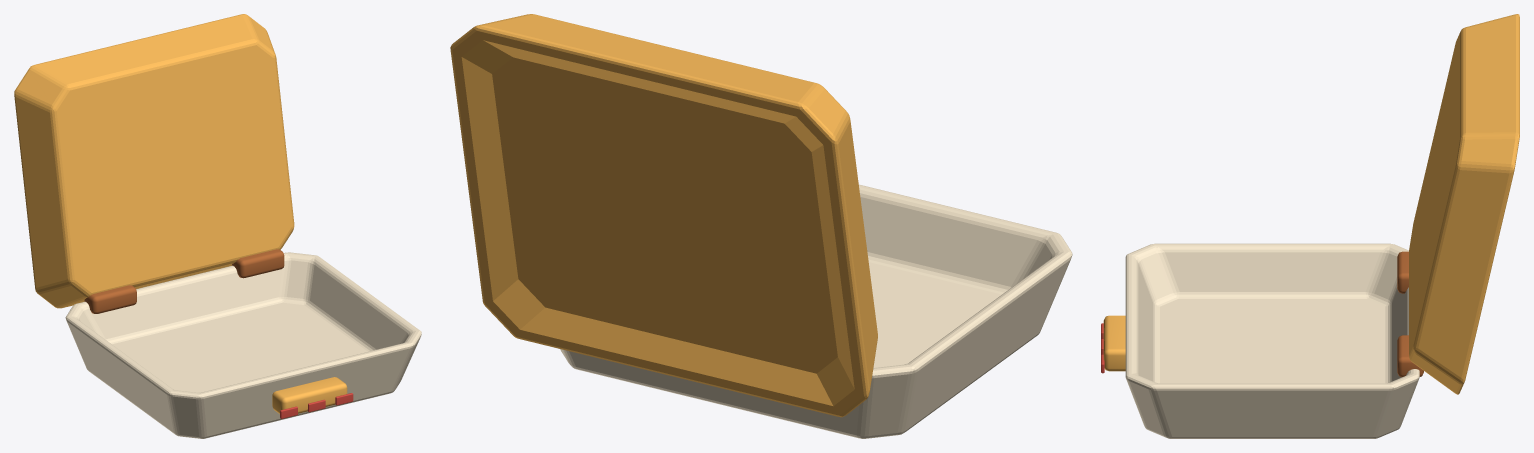
File: A07_HamburgerBox.fbx
3 renders of one model, left to right at view 1: azimuth 30°, elevation 25°; view 2: azimuth 150°, elevation 25°; view 3: azimuth 270°, elevation 25°, orthographic. The views are drawn at different scales.
Visible parts, largest first — view 1: Burger • honey lid, Burger • molded cream base, Burger front lock tab, Burger hinge knuckle, Burger hinge knuckle.001; view 2: Burger • honey lid, Burger • molded cream base; view 3: Burger • molded cream base, Burger • honey lid, Burger front lock tab, Burger hinge knuckle.001, Burger hinge knuckle.
Boxes of the visible parts, box(x1,y1,x2,y2) form: Burger • honey lid: box(14, 14, 294, 308); Burger • molded cream base: box(65, 252, 421, 438); Burger front lock tab: box(272, 377, 347, 413); Burger hinge knuckle: box(84, 285, 136, 313); Burger hinge knuckle.001: box(232, 249, 284, 278); Burger • honey lid: box(450, 14, 877, 417); Burger • molded cream base: box(560, 184, 1072, 438); Burger • molded cream base: box(1125, 243, 1419, 438); Burger • honey lid: box(1409, 14, 1519, 394); Burger front lock tab: box(1103, 315, 1125, 371); Burger hinge knuckle.001: box(1397, 335, 1423, 377); Burger hinge knuckle: box(1397, 251, 1408, 293).
Bounding box in the file's own units: 0.1924 × 0.1892 × 0.2368.
